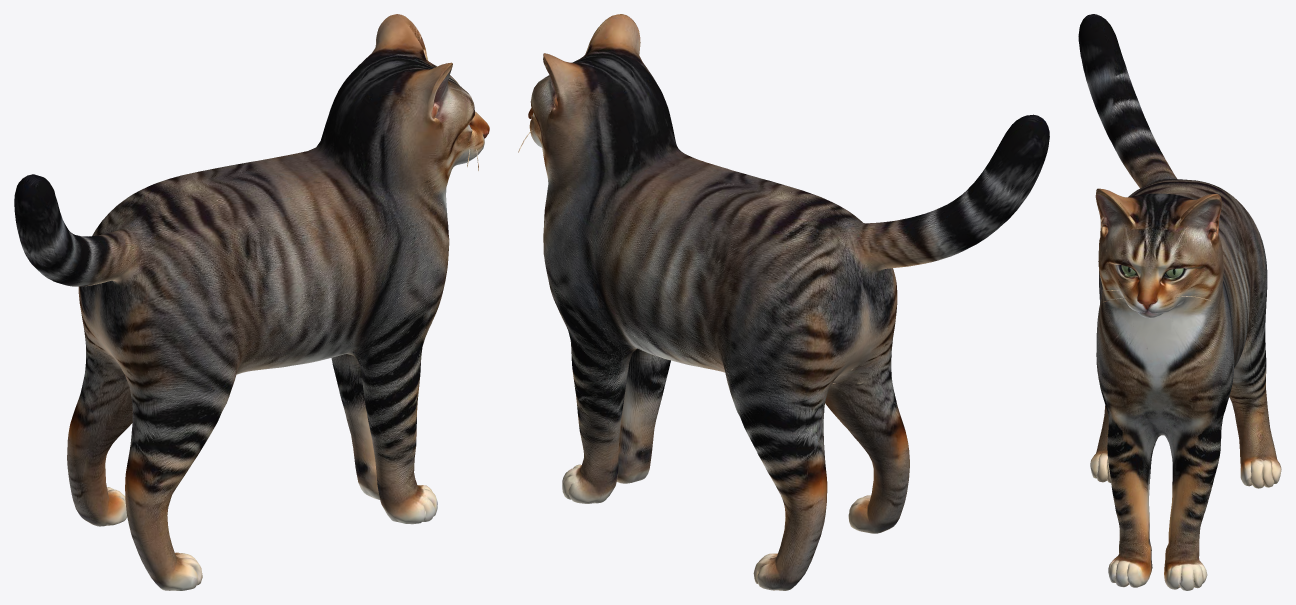
Rendered from LARRY10.glb.
The picture shows the model from 3 angles, left to right: view 1: azimuth 30°, elevation 25°; view 2: azimuth 150°, elevation 25°; view 3: azimuth 270°, elevation 25°; orthographic projection. The views are drawn at different scales.
Visible parts, largest first — view 1: fit; view 2: fit; view 3: fit.
Boxes of the visible parts, box(x1,y1,x2,y2) form: fit: box(14, 14, 489, 590); fit: box(518, 14, 1049, 590); fit: box(1078, 14, 1281, 590).
Bounding box in the file's own units: 1.14 × 0.9999 × 0.4575.
Materials: 1 (1 with a texture image).
